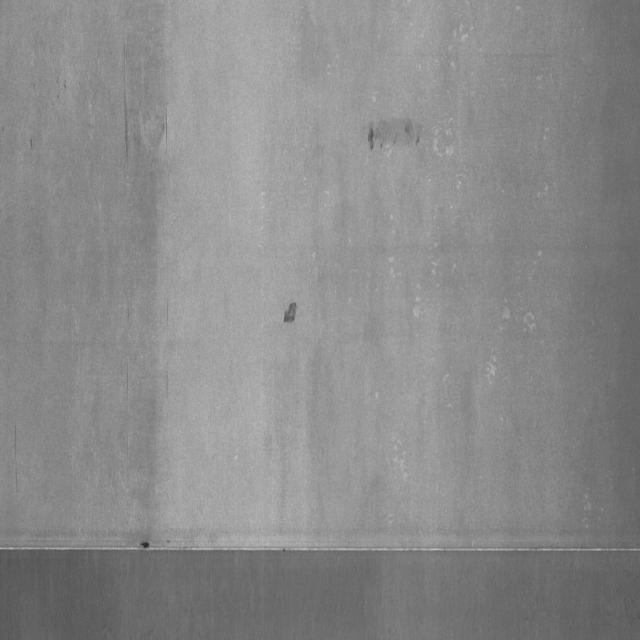crease: (5, 526, 640, 564)
